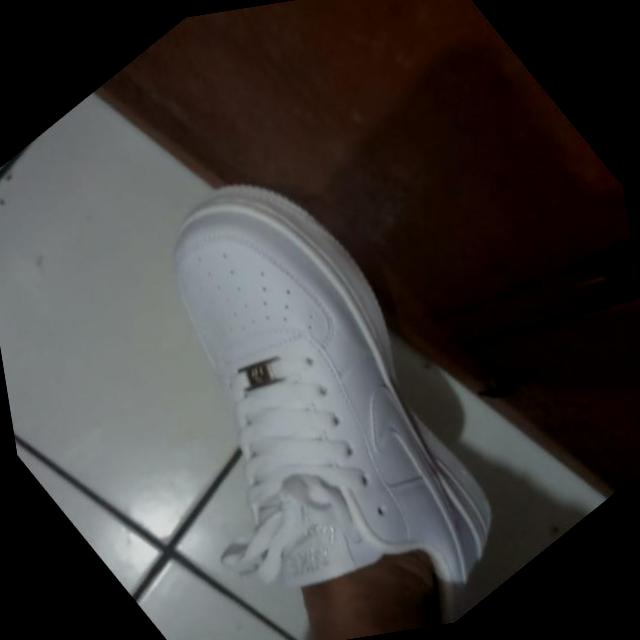nike_fake_airforce: (43, 105, 586, 640)
